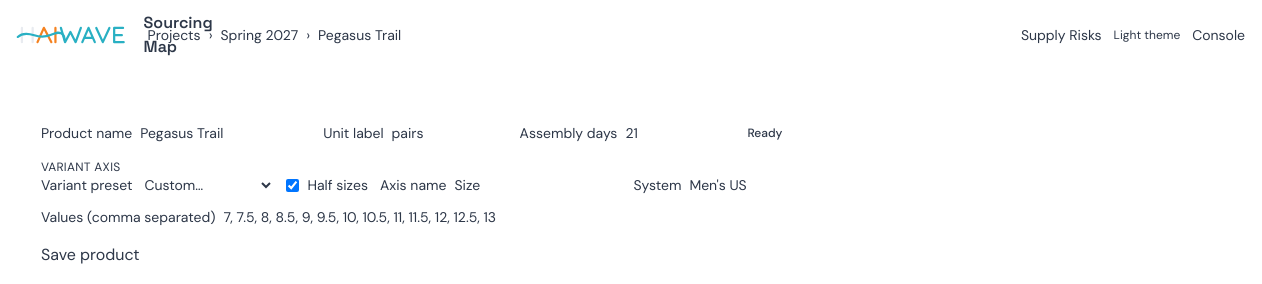
Scenario: ProductEditor header › reports a saved header upward and never refreshes the page, which holds nothing it keys on (LW-b); a failed save reports nothing
The image size is (1262, 284).
Click the button "Save product" at (90, 255), box [41, 243, 140, 267]
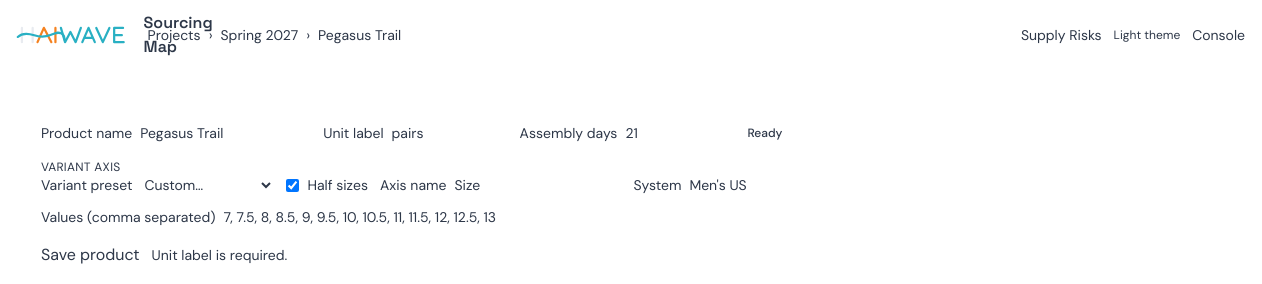
Expected: the message reads "Unit label is required.", [152, 246, 287, 264]
Click the button "Save product" at (90, 255), box [41, 243, 140, 267]
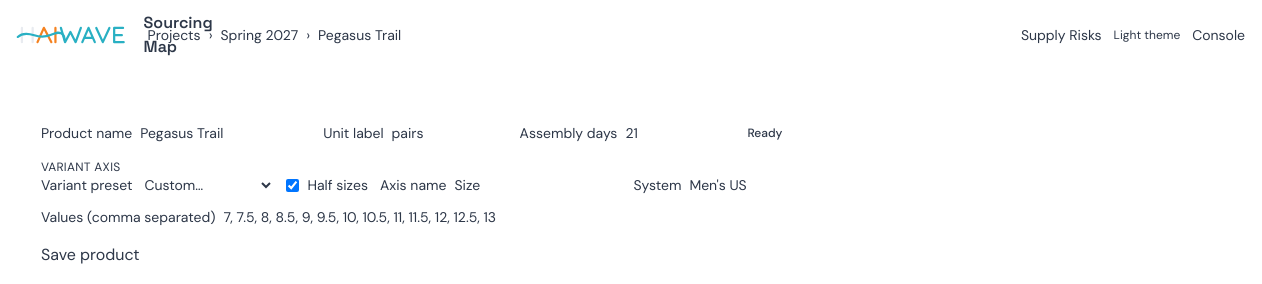
Expected: the message "Unit label is required." is gone
